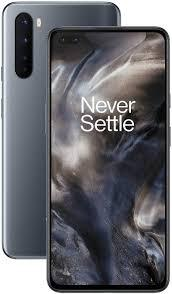Smartphone: (6, 4, 129, 260), (48, 29, 165, 289)
